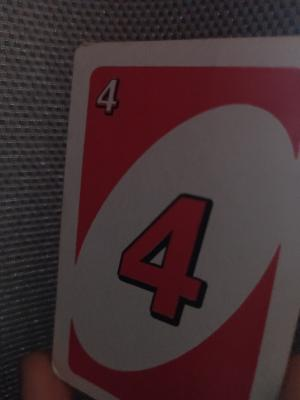num_4: (111, 187, 224, 335), (90, 72, 126, 123)
